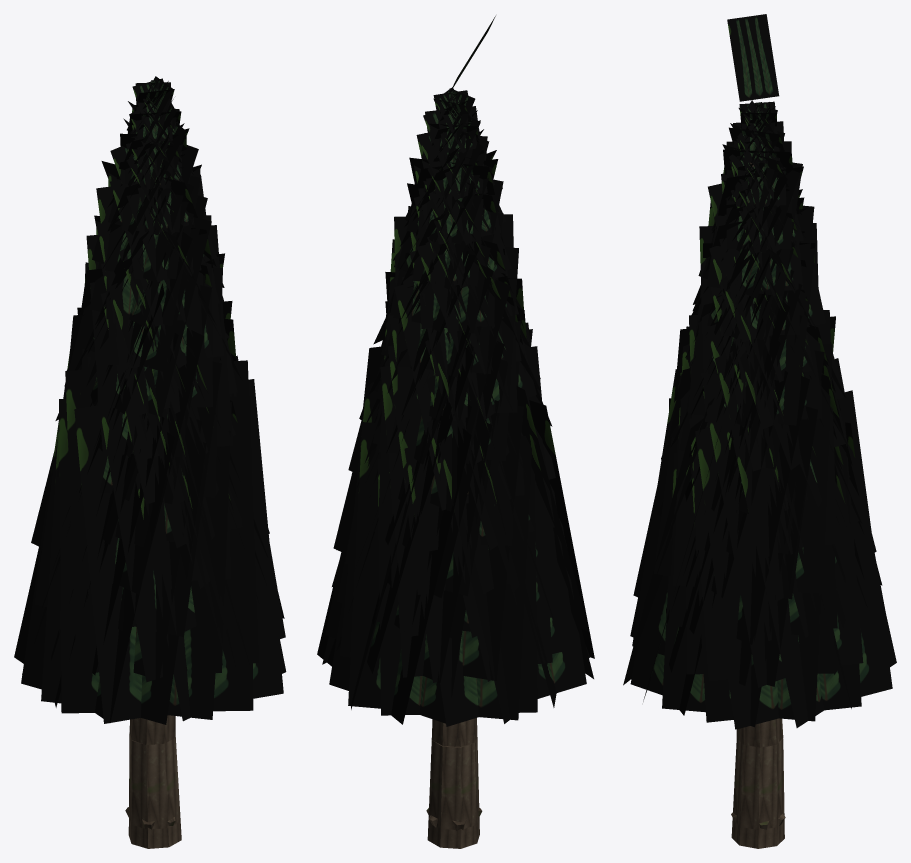
File: Fir.fbx
3 renders of one model, left to right at view 1: azimuth 30°, elevation 25°; view 2: azimuth 150°, elevation 25°; view 3: azimuth 270°, elevation 25°, orthographic. The views are drawn at different scales.
Visible parts, largest first — view 1: Fir; view 2: Fir; view 3: Fir.
Boxes of the visible parts, box(x1,y1,x2,y2) form: Fir: box(14, 76, 286, 848); Fir: box(317, 16, 594, 848); Fir: box(623, 14, 896, 848).
Size of the model in its own units: 3.6 by 11.75 by 3.62.
